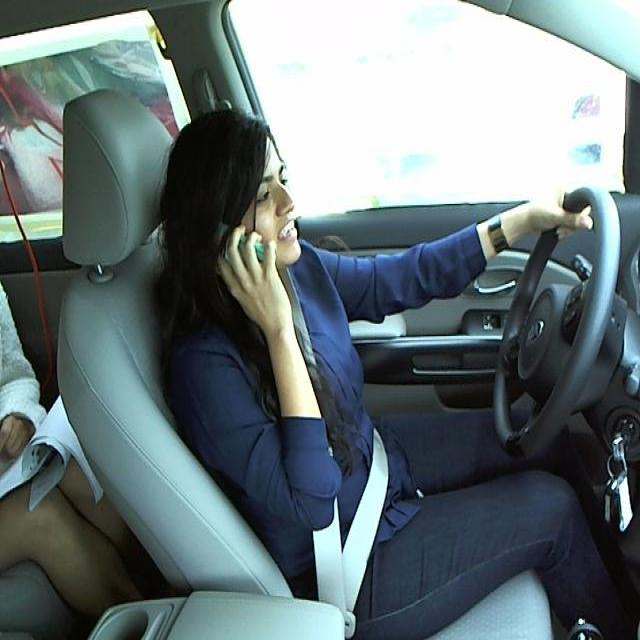using_phone: (146, 84, 332, 359)
